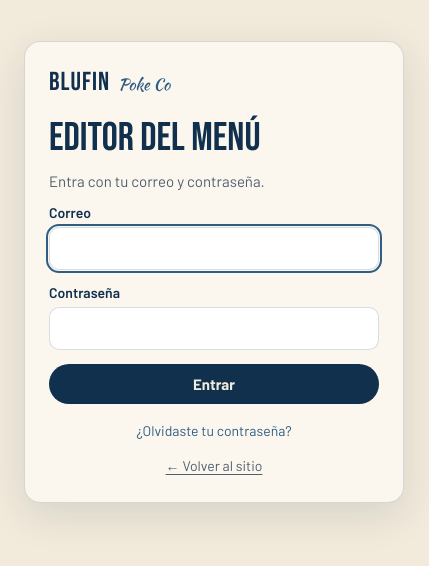
Test: /login › shows why sign-in failed and stays on the form
Type "mesera@blufin.mx" into the field labelled "Correo" at point(214, 248), box x1=49 y1=227 x2=379 y2=270
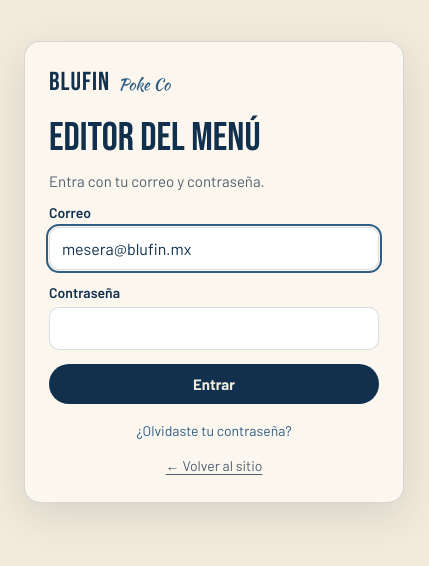
Type "mala" into the password field labelled "Contraseña" at point(214, 328), box x1=49 y1=307 x2=379 y2=350
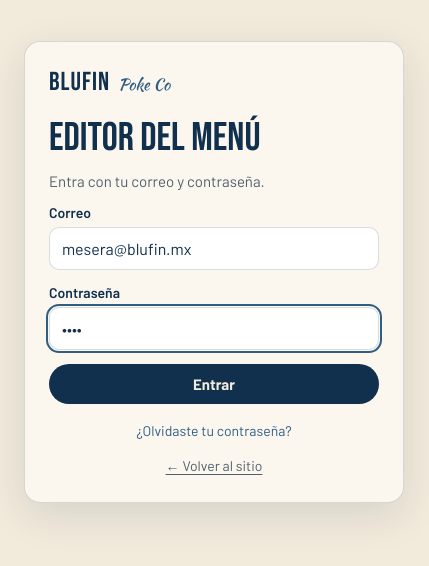
Click the button "Entrar" at point(214, 384), box x1=49 y1=364 x2=379 y2=404
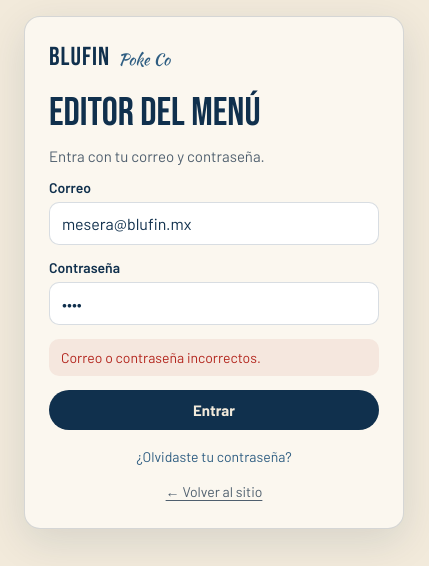
Now the message reads "Correo o contraseña incorrectos.", box x1=61 y1=348 x2=261 y2=366
